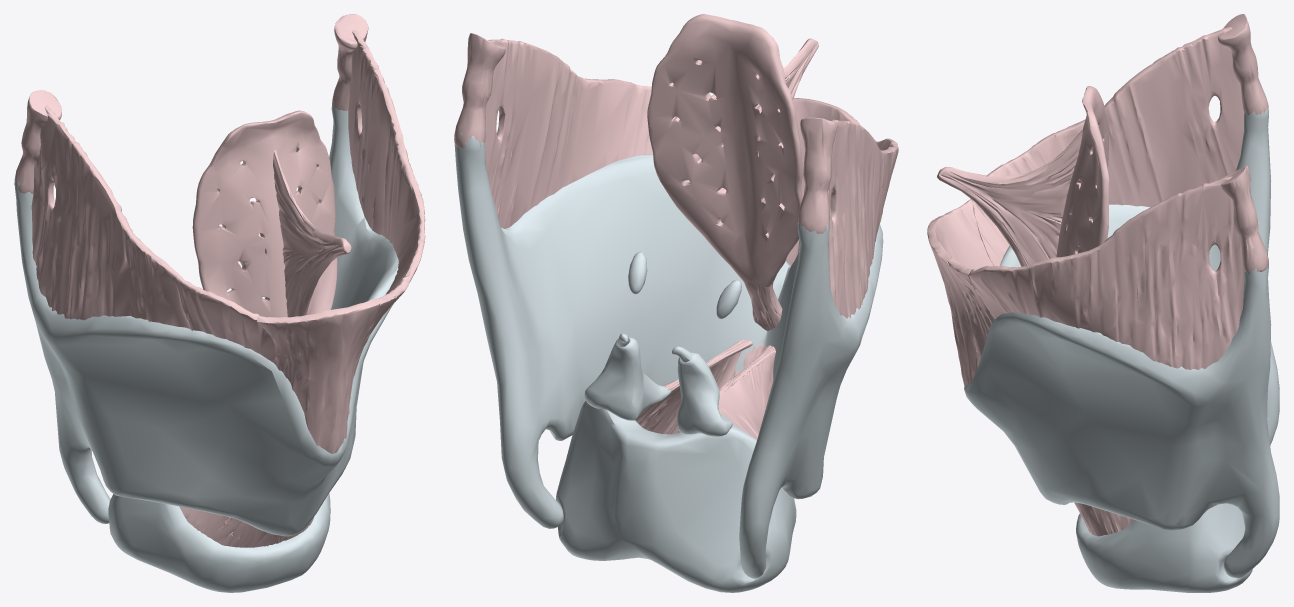
Rendered from respiratoire-cou.hi.glb.
The picture shows the model from 3 angles, left to right: view 1: azimuth 30°, elevation 25°; view 2: azimuth 150°, elevation 25°; view 3: azimuth 270°, elevation 25°; orthographic projection. The views are drawn at different scales.
Parts seen in each view (by area): view 1: FJ2808, FJ2804, FJ2770, FJ2769, FJ2786, FJ2790, FJ2771, FJ2797, FJ2779, FJ2794, FJ2789; view 2: FJ2808, FJ2770, FJ2769, FJ2786, FJ2804, FJ2775, FJ2797, FJ2779, FJ2792, FJ2794, FJ2777, FJ2790 (+4 smaller); view 3: FJ2808, FJ2786, FJ2804, FJ2769, FJ2771, FJ2790, FJ2770, FJ2779, FJ2797, FJ2777.
Boxes of the visible parts, box(x1,y1,x2,y2) form: FJ2808: box(15, 102, 398, 536); FJ2804: box(31, 105, 275, 362); FJ2770: box(192, 110, 337, 317); FJ2769: box(108, 493, 330, 592); FJ2786: box(348, 30, 425, 294); FJ2790: box(257, 280, 408, 453); FJ2771: box(273, 150, 351, 317); FJ2797: box(14, 90, 61, 193); FJ2779: box(332, 14, 368, 110); FJ2794: box(179, 506, 254, 547); FJ2789: box(243, 527, 299, 547); FJ2808: box(454, 132, 883, 578); FJ2770: box(647, 14, 802, 296); FJ2769: box(556, 401, 796, 592); FJ2786: box(485, 38, 676, 228); FJ2804: box(823, 119, 898, 318); FJ2775: box(584, 337, 671, 420); FJ2797: box(798, 117, 837, 233); FJ2779: box(454, 33, 505, 148); FJ2792: box(677, 352, 732, 436); FJ2794: box(718, 347, 775, 439); FJ2777: box(635, 341, 740, 434); FJ2790: box(786, 98, 875, 265); FJ2808: box(964, 108, 1279, 578); FJ2786: box(969, 176, 1244, 369); FJ2804: box(970, 27, 1244, 266); FJ2769: box(1076, 503, 1252, 592); FJ2771: box(937, 129, 1082, 266); FJ2790: box(927, 199, 994, 386); FJ2770: box(1056, 86, 1109, 257); FJ2779: box(1221, 165, 1268, 274); FJ2797: box(1218, 14, 1268, 115); FJ2777: box(1076, 503, 1134, 536).
Size of the model in its own units: 0.0387 by 0.0518 by 0.0345.
